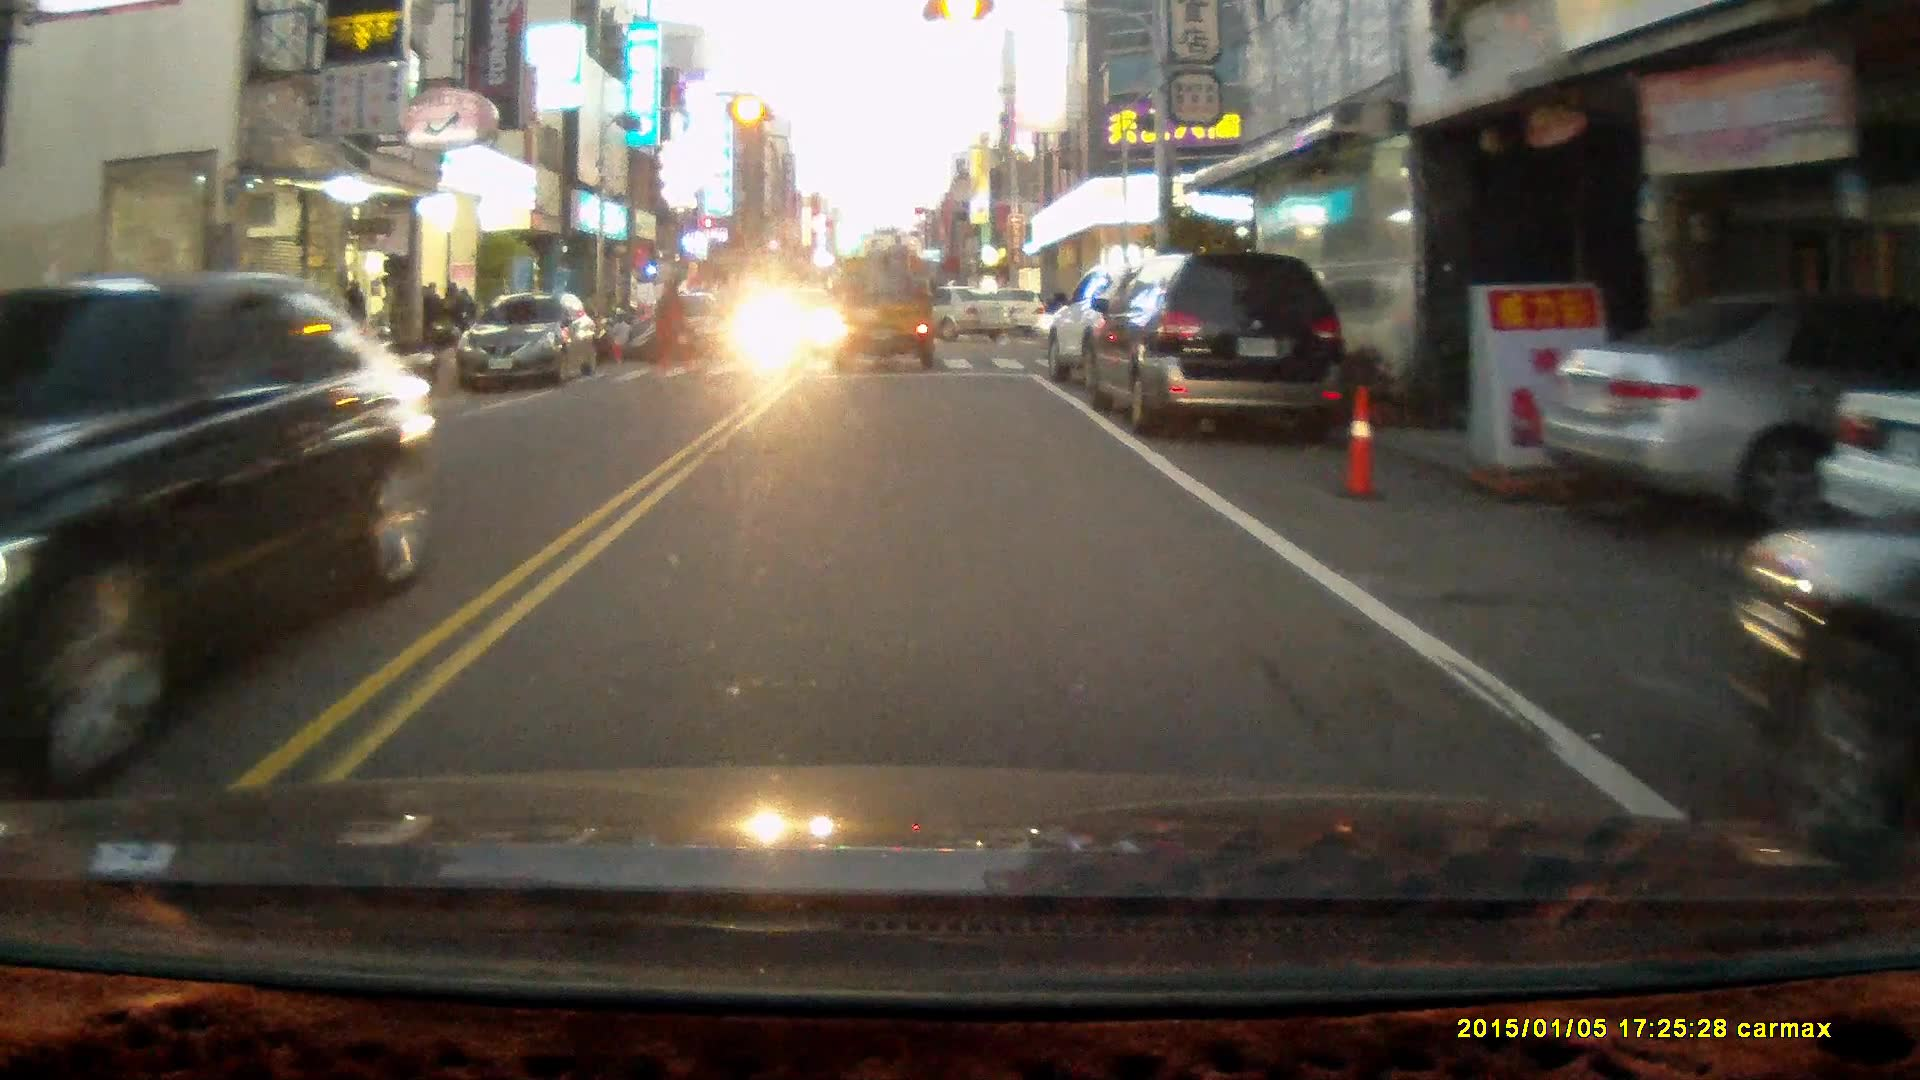pedestrian: (649, 275, 686, 377), (605, 315, 630, 368)
vehicle: (4, 273, 443, 757), (1539, 294, 1920, 528), (1719, 519, 1920, 877), (1082, 248, 1346, 443), (1044, 260, 1225, 409), (1816, 389, 1920, 551), (825, 236, 941, 380), (475, 298, 598, 393), (865, 287, 1012, 345), (643, 298, 736, 362)
